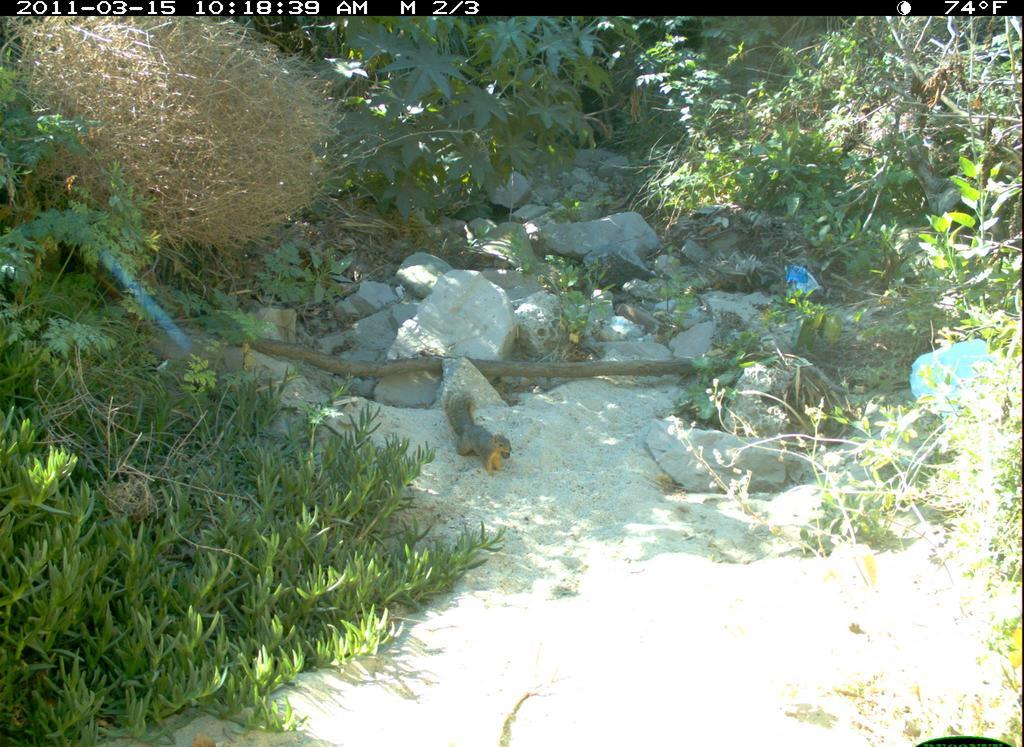squirrel: (436, 382, 517, 480)
